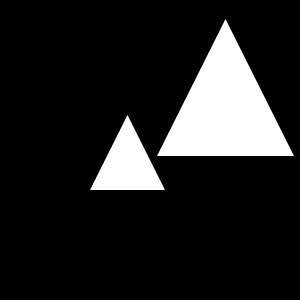triangle: (157, 19, 294, 156), (90, 115, 165, 190)
